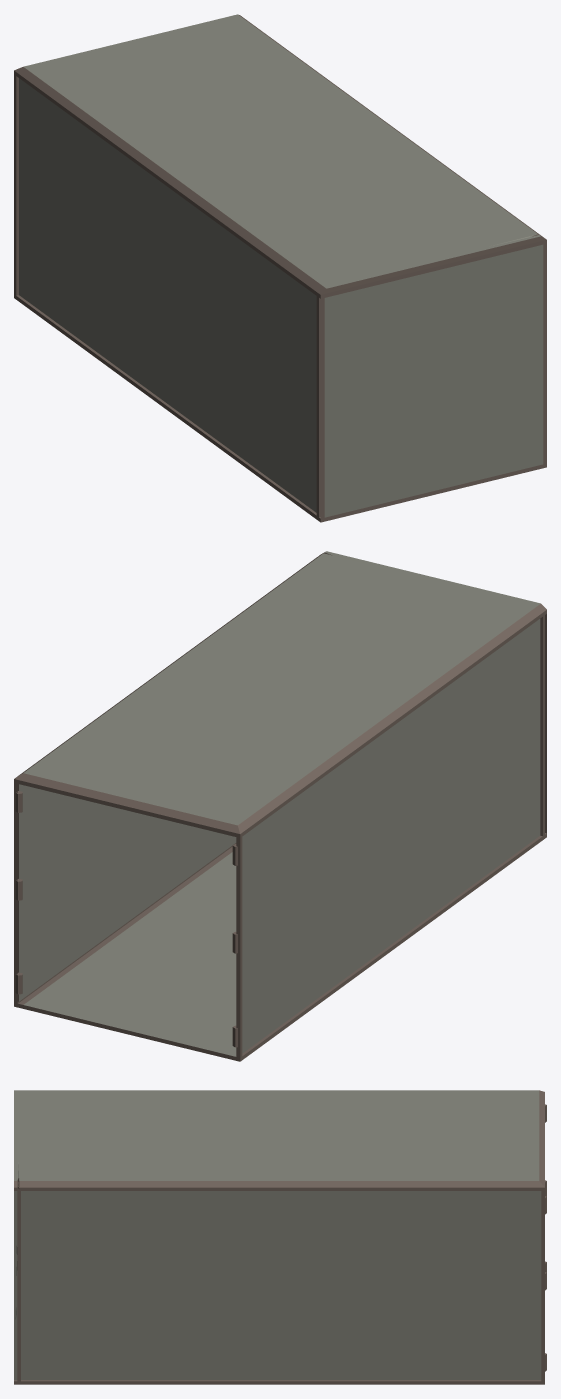
Rendered from SemitruckBack.glb.
3 renders of one model, top to bottom at view 1: azimuth 30°, elevation 25°; view 2: azimuth 150°, elevation 25°; view 3: azimuth 270°, elevation 25°, orthographic. The views are drawn at different scales.
Parts seen in each view (by area): view 1: Car2; view 2: Car2; view 3: Car2.
Boxes of the visible parts, <box> form: Car2: <box>14,14,546,522</box>; Car2: <box>14,551,546,1061</box>; Car2: <box>14,1090,546,1384</box>.
Size of the model in its own units: 2.48 by 2.44 by 5.85.
